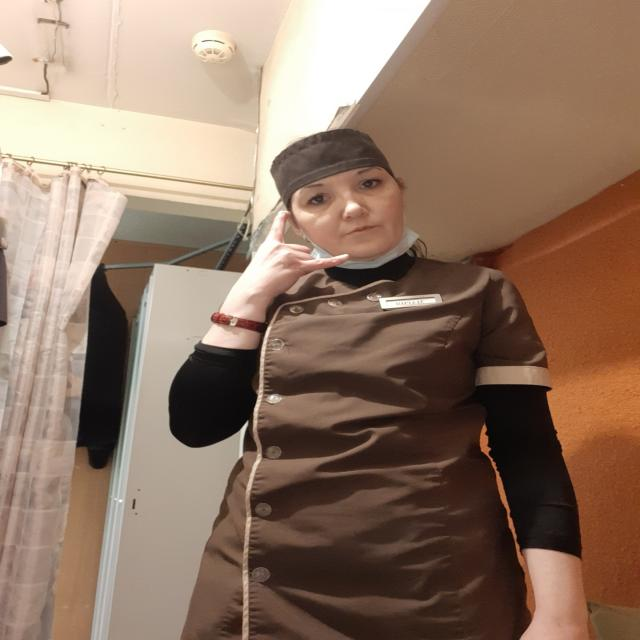call: (241, 207, 357, 294)
